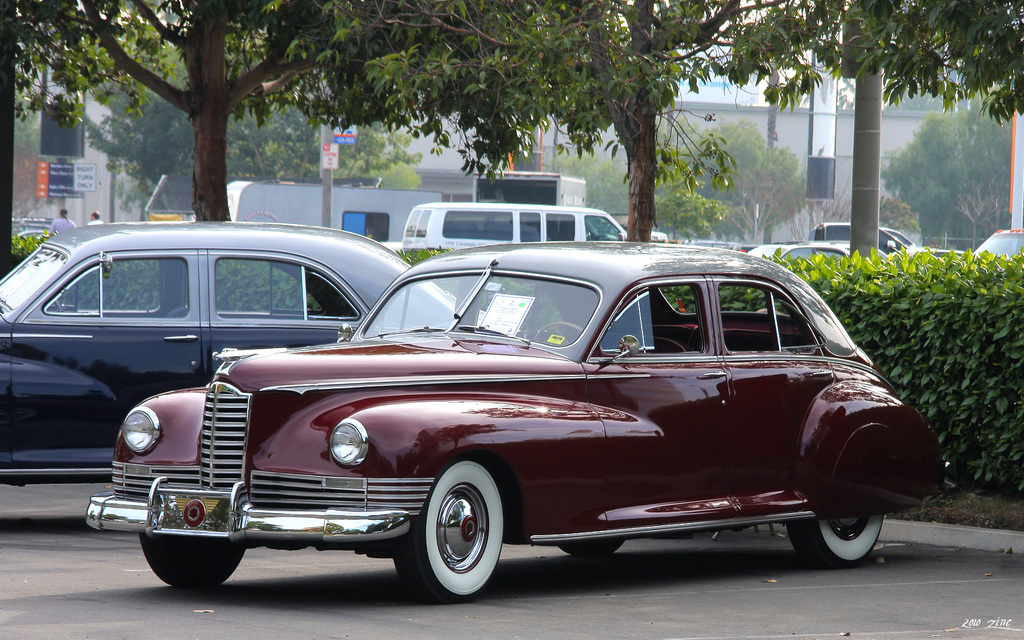Car: (83, 236, 944, 604), (0, 220, 455, 491), (739, 240, 843, 263), (974, 230, 1023, 266)
